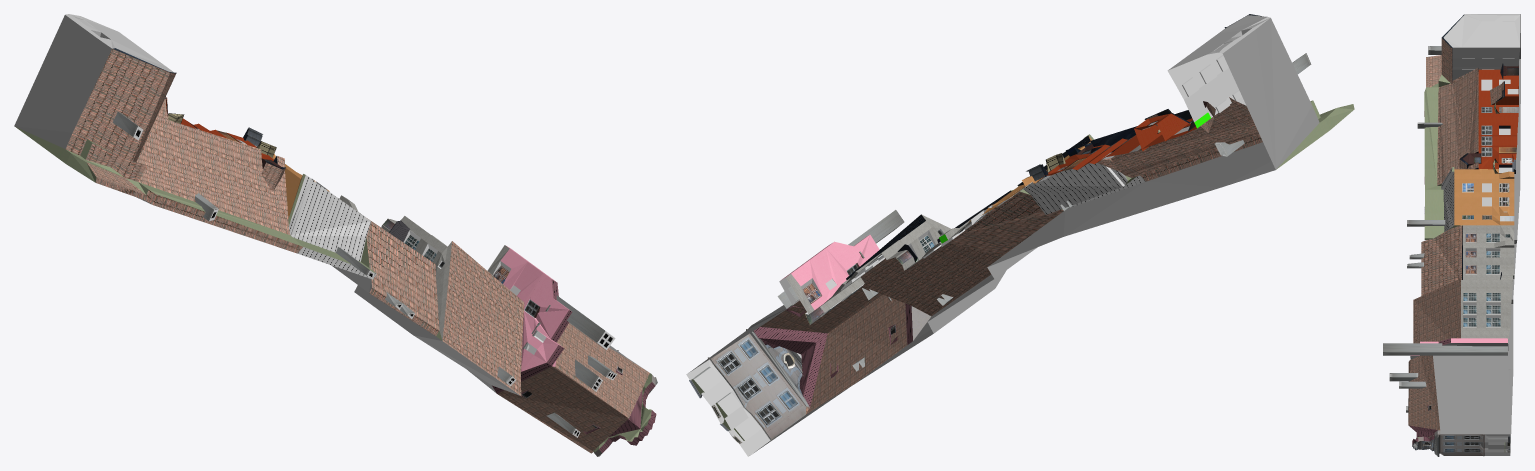
File: Pikk_29a_1-origo.obj
3 views of the same model, side by side, from view 1: azimuth 30°, elevation 25°; view 2: azimuth 150°, elevation 25°; view 3: azimuth 270°, elevation 25° (orthographic). The views are drawn at different scales.
Parts seen in each view (by area): view 1: Pikk_29a_1; view 2: Pikk_29a_1; view 3: Pikk_29a_1.
Boxes of the visible parts, left/top/right/bottom form: Pikk_29a_1: left=14, top=14, right=657, bottom=456; Pikk_29a_1: left=686, top=14, right=1354, bottom=456; Pikk_29a_1: left=1383, top=14, right=1520, bottom=456.
Size of the model in its own units: 60.75 by 51 by 20.87.
